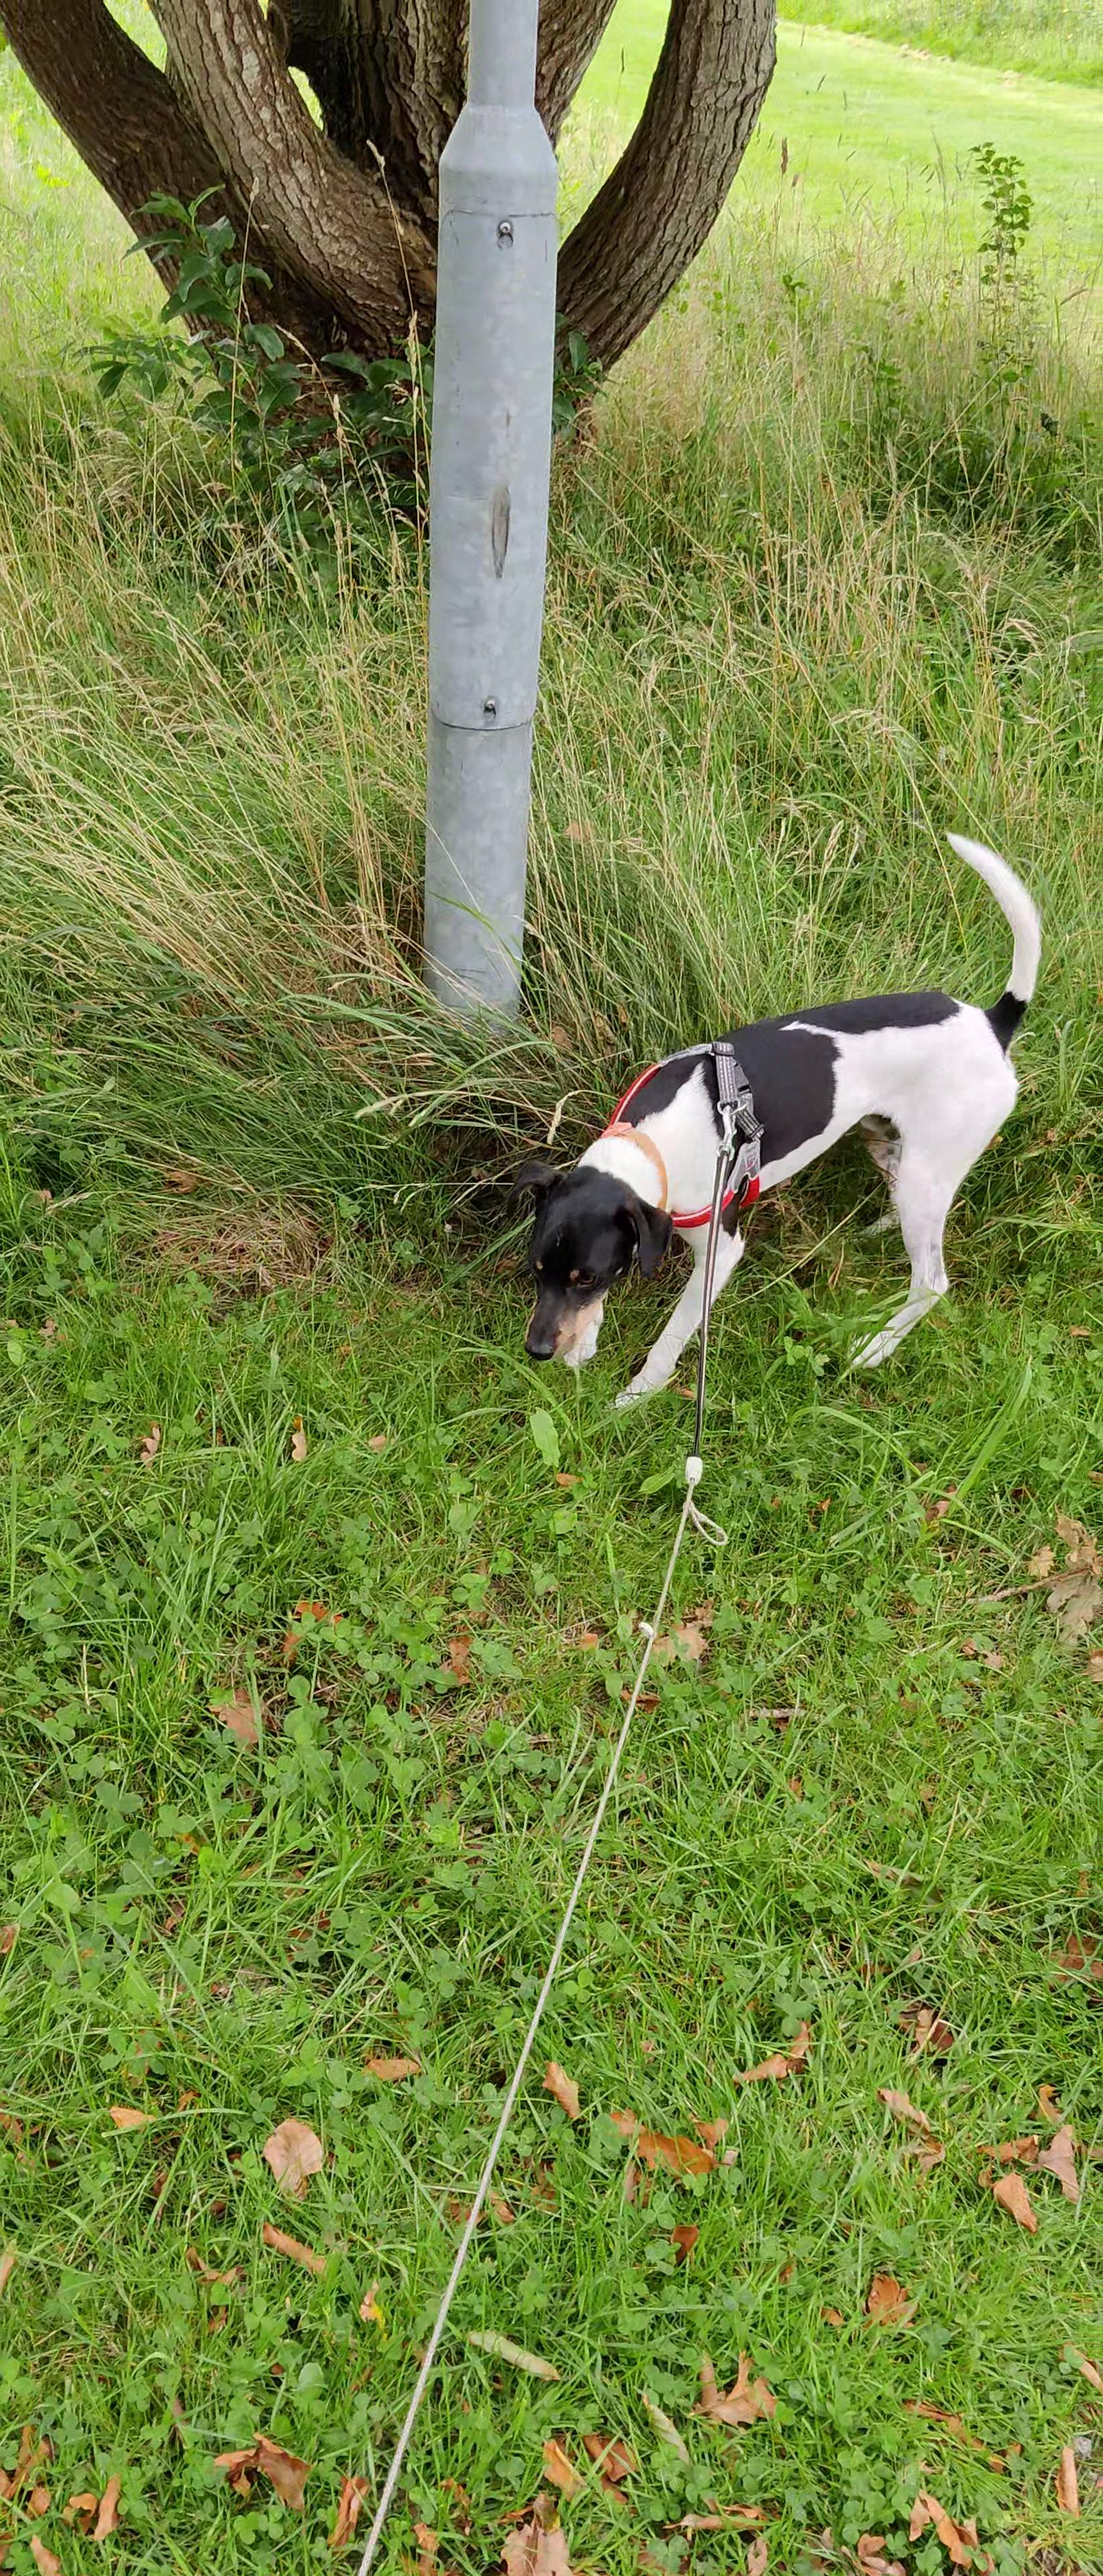Dog: (482, 815, 1054, 1428)
